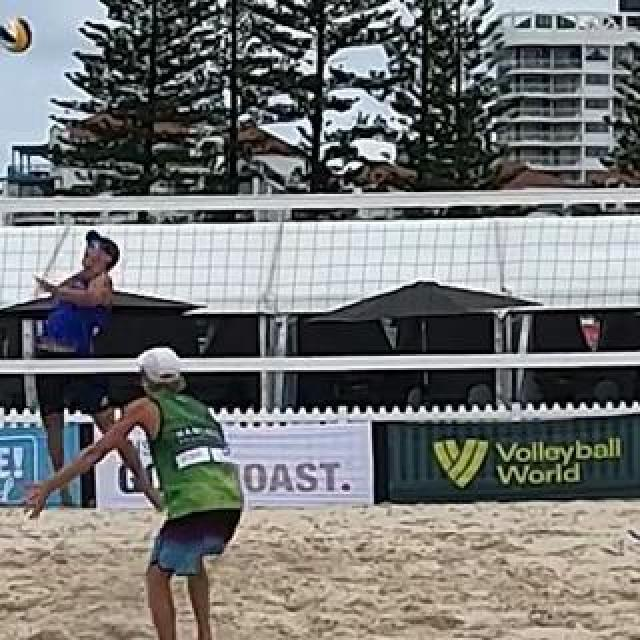volleyball: (2, 15, 34, 51)
